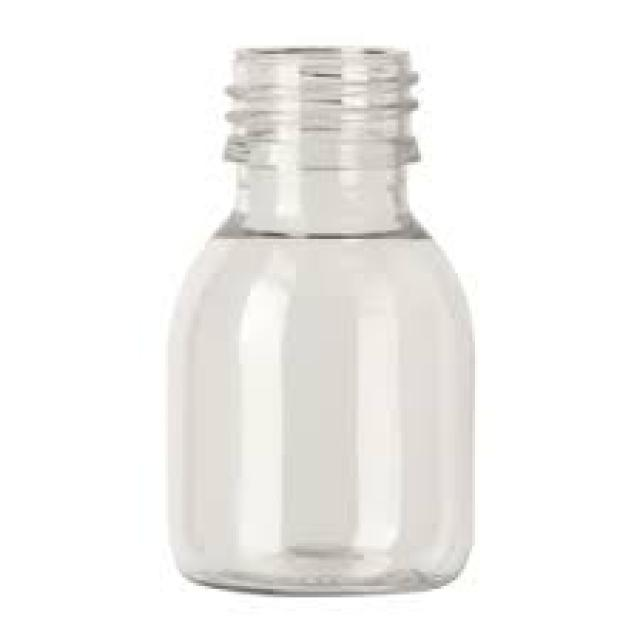glass: (165, 43, 469, 592)
